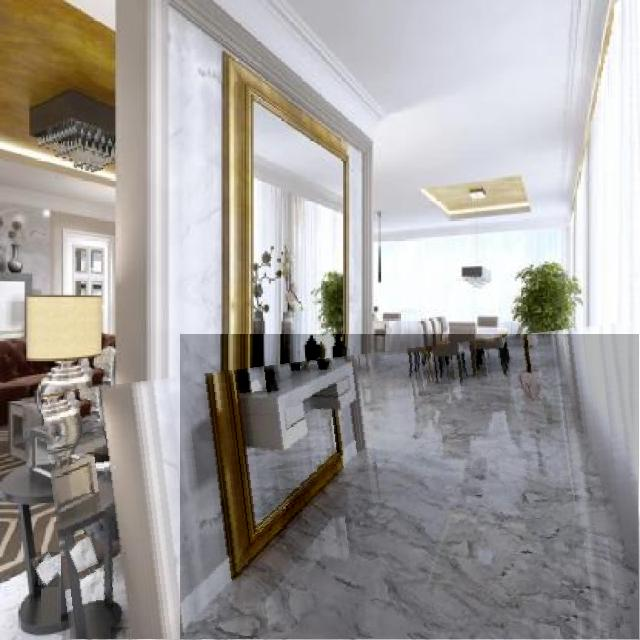floor: (181, 334, 639, 640), (65, 536, 98, 573), (36, 552, 59, 587), (112, 627, 130, 640)
